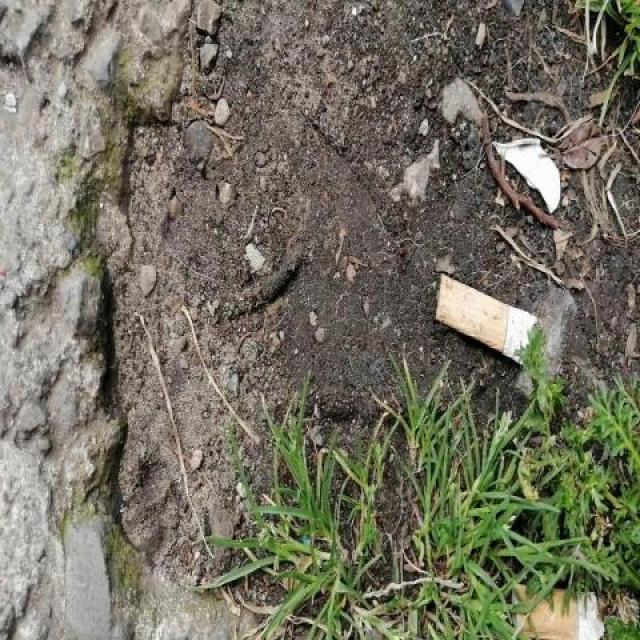non-organic waste: (432, 270, 540, 374), (509, 576, 607, 640)
